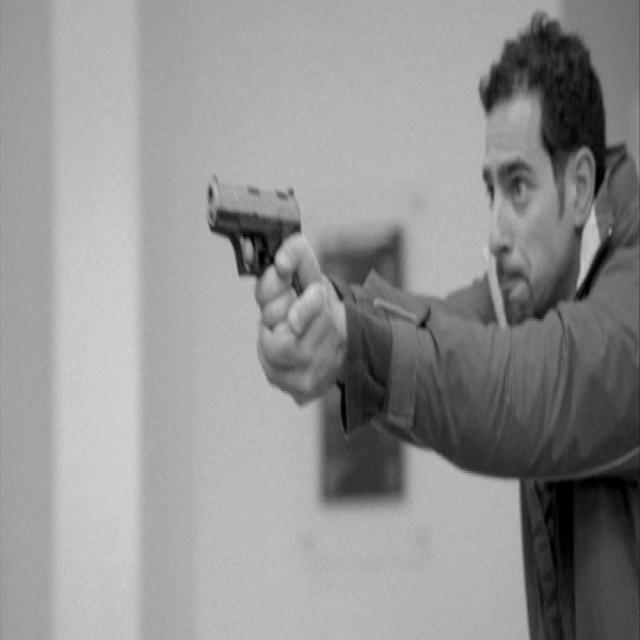weapons: (194, 155, 321, 354)
